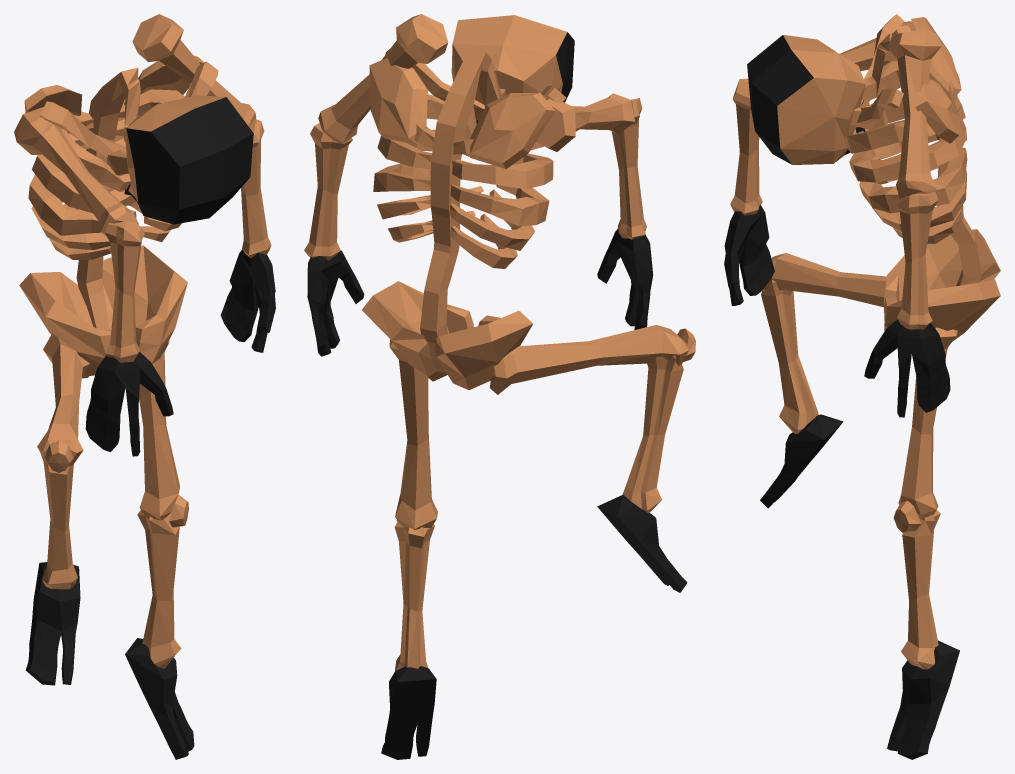
The model's file is SM_Prop_Skeleton_Cage_02.glb.
3 views of the same model, side by side, from view 1: azimuth 30°, elevation 25°; view 2: azimuth 150°, elevation 25°; view 3: azimuth 270°, elevation 25° (orthographic). The views are drawn at different scales.
Visible parts, largest first — view 1: SM_Prop_Skeleton_Cage_02_00; view 2: SM_Prop_Skeleton_Cage_02_00; view 3: SM_Prop_Skeleton_Cage_02_00.
Boxes of the visible parts, x1,y1,x2,y2 form: SM_Prop_Skeleton_Cage_02_00: [14, 14, 275, 759]; SM_Prop_Skeleton_Cage_02_00: [304, 14, 695, 759]; SM_Prop_Skeleton_Cage_02_00: [724, 14, 1000, 759].
Bounding box in the file's own units: 0.73 × 1.69 × 0.5868.
1 material, 1 textured.
